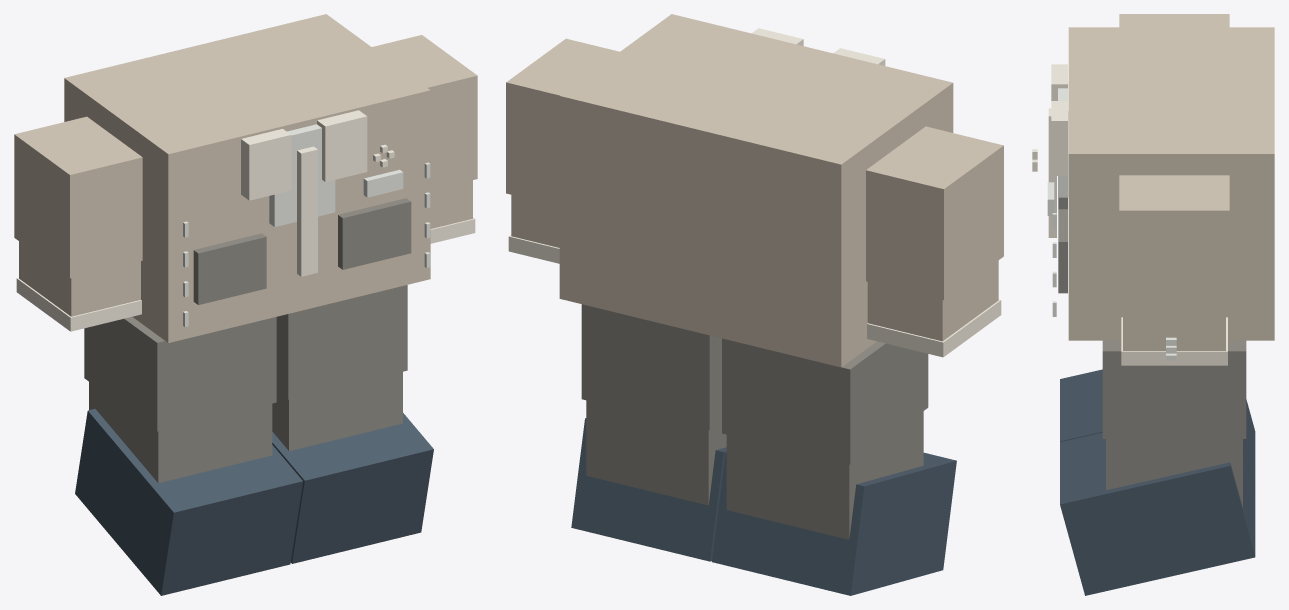
Rendered from business-sand.glb.
3 views of the same model, side by side, from view 1: azimuth 30°, elevation 25°; view 2: azimuth 150°, elevation 25°; view 3: azimuth 270°, elevation 25° (orthographic). The views are drawn at different scales.
Parts seen in each view (by area): view 1: jacket, shoe-Right, upper-sleeve-Right, trouser-Right, shoe-Left, trouser-Left, lower-trouser-Right, upper-sleeve-Left, lower-trouser-Left, lower-sleeve-Right, pocket--1, pocket-1 (+8 smaller); view 2: jacket, upper-sleeve-Right, trouser-Right, shoe-Right, trouser-Left, lower-trouser-Right, lower-trouser-Left, upper-sleeve-Left, shoe-Left, lower-sleeve-Right, cuff-Right, lower-sleeve-Left (+1 smaller); view 3: jacket, shoe-Left, upper-sleeve-Left, trouser-Left, lower-trouser-Left, lower-sleeve-Left, shoe-Right, cuff-Left, upper-sleeve-Right, lapel-1, pocket-1, tie (+2 smaller).
Boxes of the visible parts, box(x1,y1,x2,y2) form: jacket: box(64, 14, 430, 342); shoe-Right: box(75, 409, 302, 595); upper-sleeve-Right: box(14, 116, 142, 278); trouser-Right: box(84, 317, 276, 431); shoe-Left: box(272, 413, 433, 563); trouser-Left: box(276, 285, 407, 399); lower-trouser-Right: box(89, 382, 272, 482); upper-sleeve-Left: box(372, 35, 477, 190); lower-trouser-Left: box(272, 372, 402, 451); lower-sleeve-Right: box(19, 241, 140, 316); pocket--1: box(193, 233, 266, 304); pocket-1: box(338, 198, 411, 269); jacket: box(559, 14, 953, 367); upper-sleeve-Right: box(866, 126, 1003, 300); trouser-Right: box(722, 338, 928, 464); shoe-Right: box(712, 452, 956, 595); trouser-Left: box(581, 304, 721, 430); lower-trouser-Right: box(726, 411, 923, 539); lower-trouser-Left: box(586, 400, 726, 505); upper-sleeve-Left: box(506, 38, 619, 206); shoe-Left: box(571, 418, 726, 561); lower-sleeve-Right: box(867, 260, 998, 341); cuff-Right: box(867, 299, 1001, 357); lower-sleeve-Left: box(511, 195, 559, 247); jacket: box(1068, 27, 1274, 340); shoe-Left: box(1060, 432, 1255, 595); upper-sleeve-Left: box(1119, 175, 1229, 312); trouser-Left: box(1102, 340, 1246, 438); lower-trouser-Left: box(1106, 439, 1242, 507); lower-sleeve-Left: box(1123, 312, 1225, 350); shoe-Right: box(1060, 369, 1255, 493); cuff-Left: box(1121, 317, 1227, 365); upper-sleeve-Right: box(1119, 14, 1229, 27); lapel-1: box(1051, 101, 1067, 175); pocket-1: box(1058, 209, 1067, 293); tie: box(1048, 108, 1056, 237).
Size of the model in its own units: 1.08 by 1.13 by 0.559.
